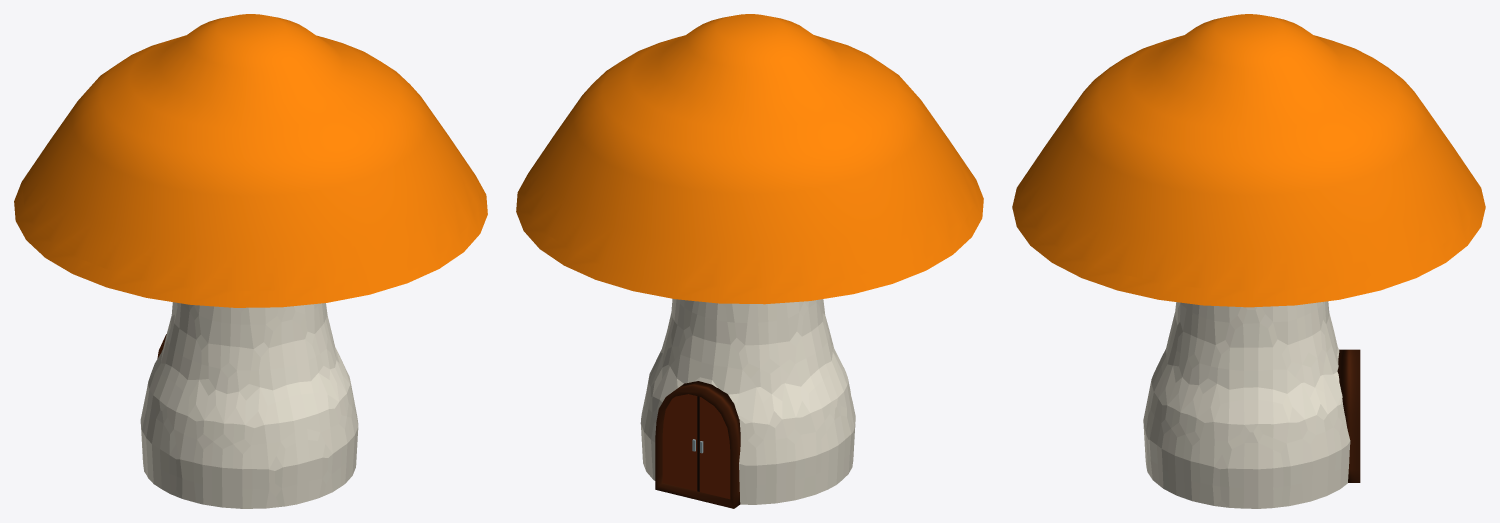
File: mushhome.glb
3 renders of one model, left to right at view 1: azimuth 30°, elevation 25°; view 2: azimuth 150°, elevation 25°; view 3: azimuth 270°, elevation 25°, orthographic.
Parts seen in each view (by area): view 1: mush top, mush body; view 2: mush top, mush body, door frame, door 2, door 1; view 3: mush top, mush body, door frame.
Boxes of the visible parts, left/top/right/bottom form: mush top: left=14, top=14, right=487, bottom=307; mush body: left=140, top=302, right=358, bottom=508; mush top: left=516, top=14, right=983, bottom=304; mush body: left=640, top=298, right=855, bottom=504; door frame: left=655, top=381, right=740, bottom=508; door 2: left=662, top=394, right=698, bottom=491; door 1: left=698, top=396, right=730, bottom=499; mush top: left=1012, top=14, right=1485, bottom=307; mush body: left=1143, top=301, right=1350, bottom=508; door frame: left=1337, top=349, right=1360, bottom=482.
Bounding box in the file's own units: 10.31 × 10.46 × 10.31.
